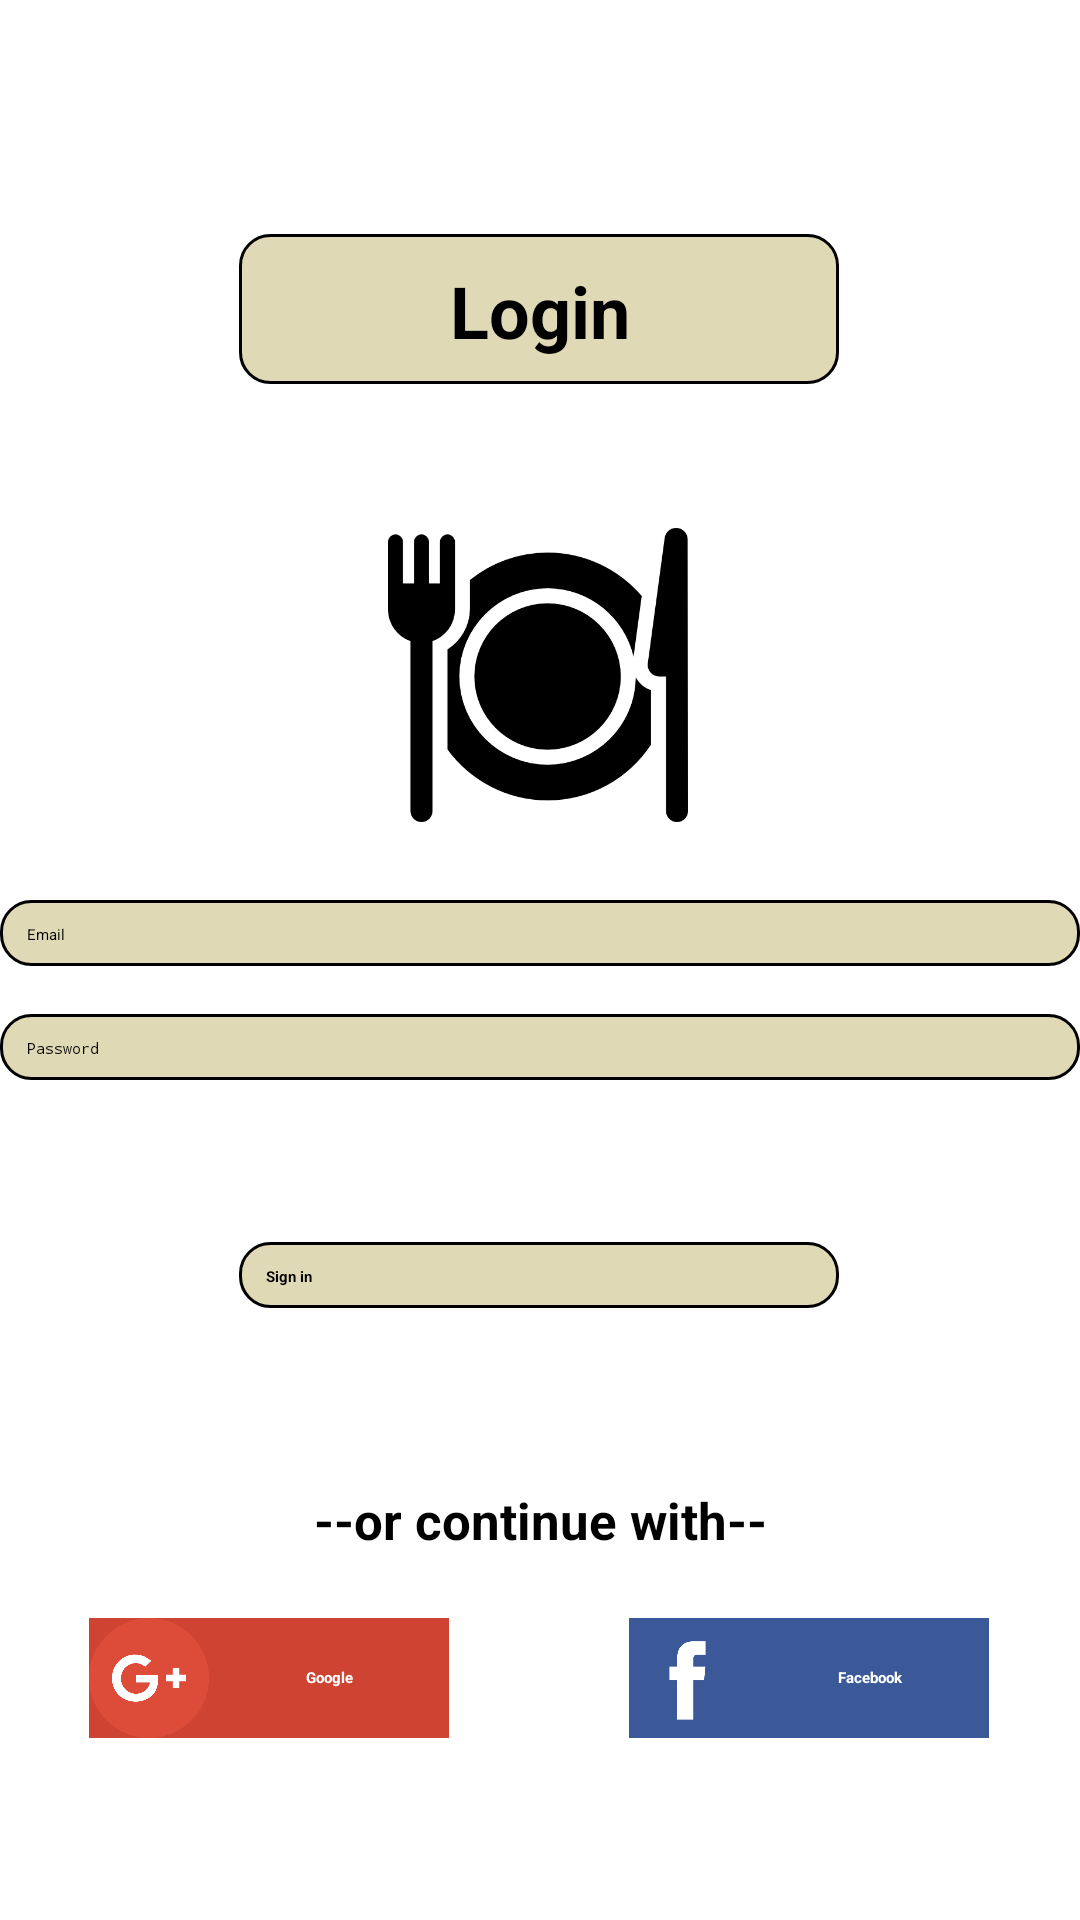

Screen size 1080px x 1920px. Icon name, then its center in pixels as (x=x, y=y):
plate: (x=538, y=675)
